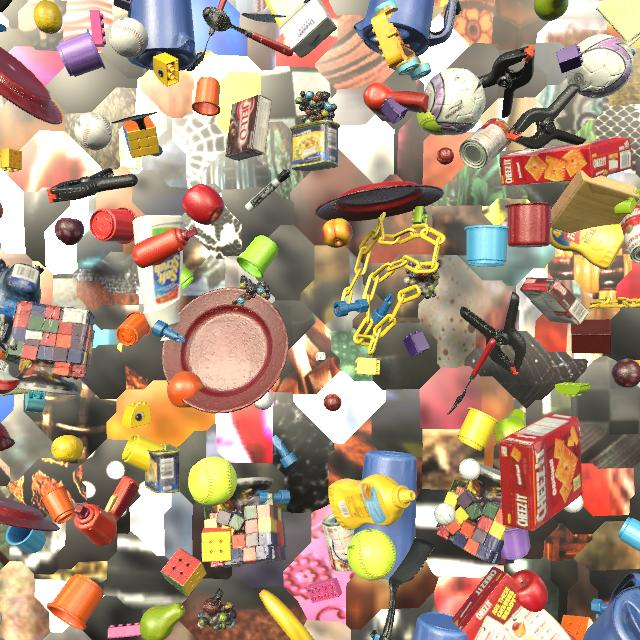ycb_003_cracker_box: (499, 413, 583, 531), (452, 566, 576, 640), (499, 137, 632, 186)
ycb_004_sugar_box: (265, 0, 337, 58)
ycb_005_tomato_soup_can: (459, 118, 511, 169), (322, 514, 354, 572), (620, 204, 640, 263)
ycb_006_mustard_bottle: (328, 474, 416, 530), (550, 223, 625, 270)
ycb_008_pudding_box: (520, 277, 589, 325), (225, 94, 272, 161)
ycb_010_potted_meat_can: (290, 120, 340, 171), (145, 444, 181, 494)
ycb_011_banana: (259, 589, 314, 640)
ycb_013_apple: (182, 184, 224, 225), (511, 570, 548, 612)
ycb_014_lemon: (33, 0, 63, 34), (51, 435, 83, 462)
ycb_015_peach: (321, 218, 353, 248)
ycb_016_pear: (139, 602, 185, 640), (494, 409, 527, 445), (534, 0, 569, 21)
ycb_017_orange: (167, 371, 203, 408)
ycb_018_plum: (611, 359, 640, 388), (55, 218, 84, 245)
